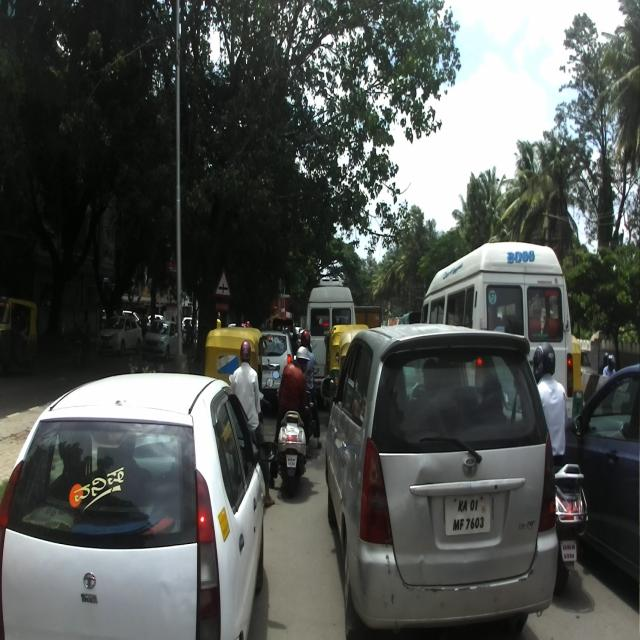car: (1, 372, 278, 640), (321, 326, 558, 638)
mini-bus: (419, 243, 574, 424)
scooter: (271, 371, 314, 498)
